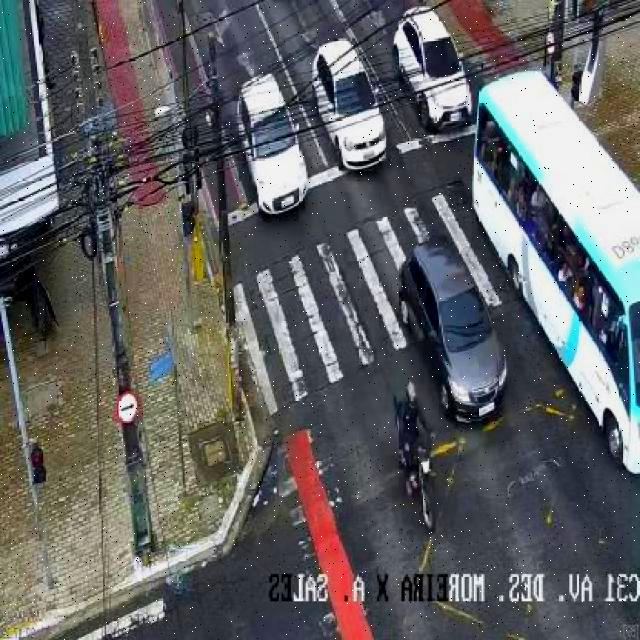bus: (469, 76, 640, 482)
car: (399, 238, 507, 426), (310, 39, 388, 170), (393, 3, 472, 128), (240, 74, 308, 218)
motorbike: (394, 380, 436, 531)
